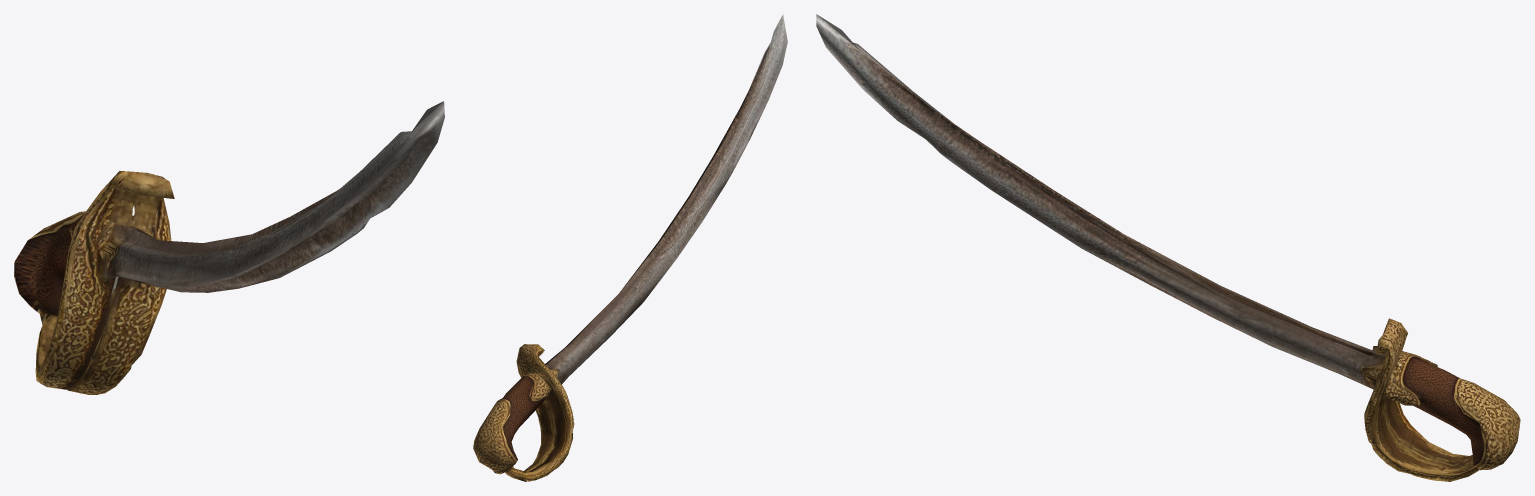
File: cavalry_hp_melee.glb
The picture shows the model from 3 angles, left to right: view 1: azimuth 30°, elevation 25°; view 2: azimuth 150°, elevation 25°; view 3: azimuth 270°, elevation 25°; orthographic projection. The views are drawn at different scales.
Visible parts, largest first — view 1: tripo_node_399a29f8-8b1c-4ae5-a1cc-3ae662270d22; view 2: tripo_node_399a29f8-8b1c-4ae5-a1cc-3ae662270d22; view 3: tripo_node_399a29f8-8b1c-4ae5-a1cc-3ae662270d22.
Boxes of the visible parts, box(x1,y1,x2,y2) form: tripo_node_399a29f8-8b1c-4ae5-a1cc-3ae662270d22: box(14, 101, 444, 394); tripo_node_399a29f8-8b1c-4ae5-a1cc-3ae662270d22: box(473, 14, 787, 481); tripo_node_399a29f8-8b1c-4ae5-a1cc-3ae662270d22: box(816, 14, 1520, 481).
Size of the model in its own units: 0.111 by 0.3921 by 0.5655.
Materials: 1 (1 with a texture image).
